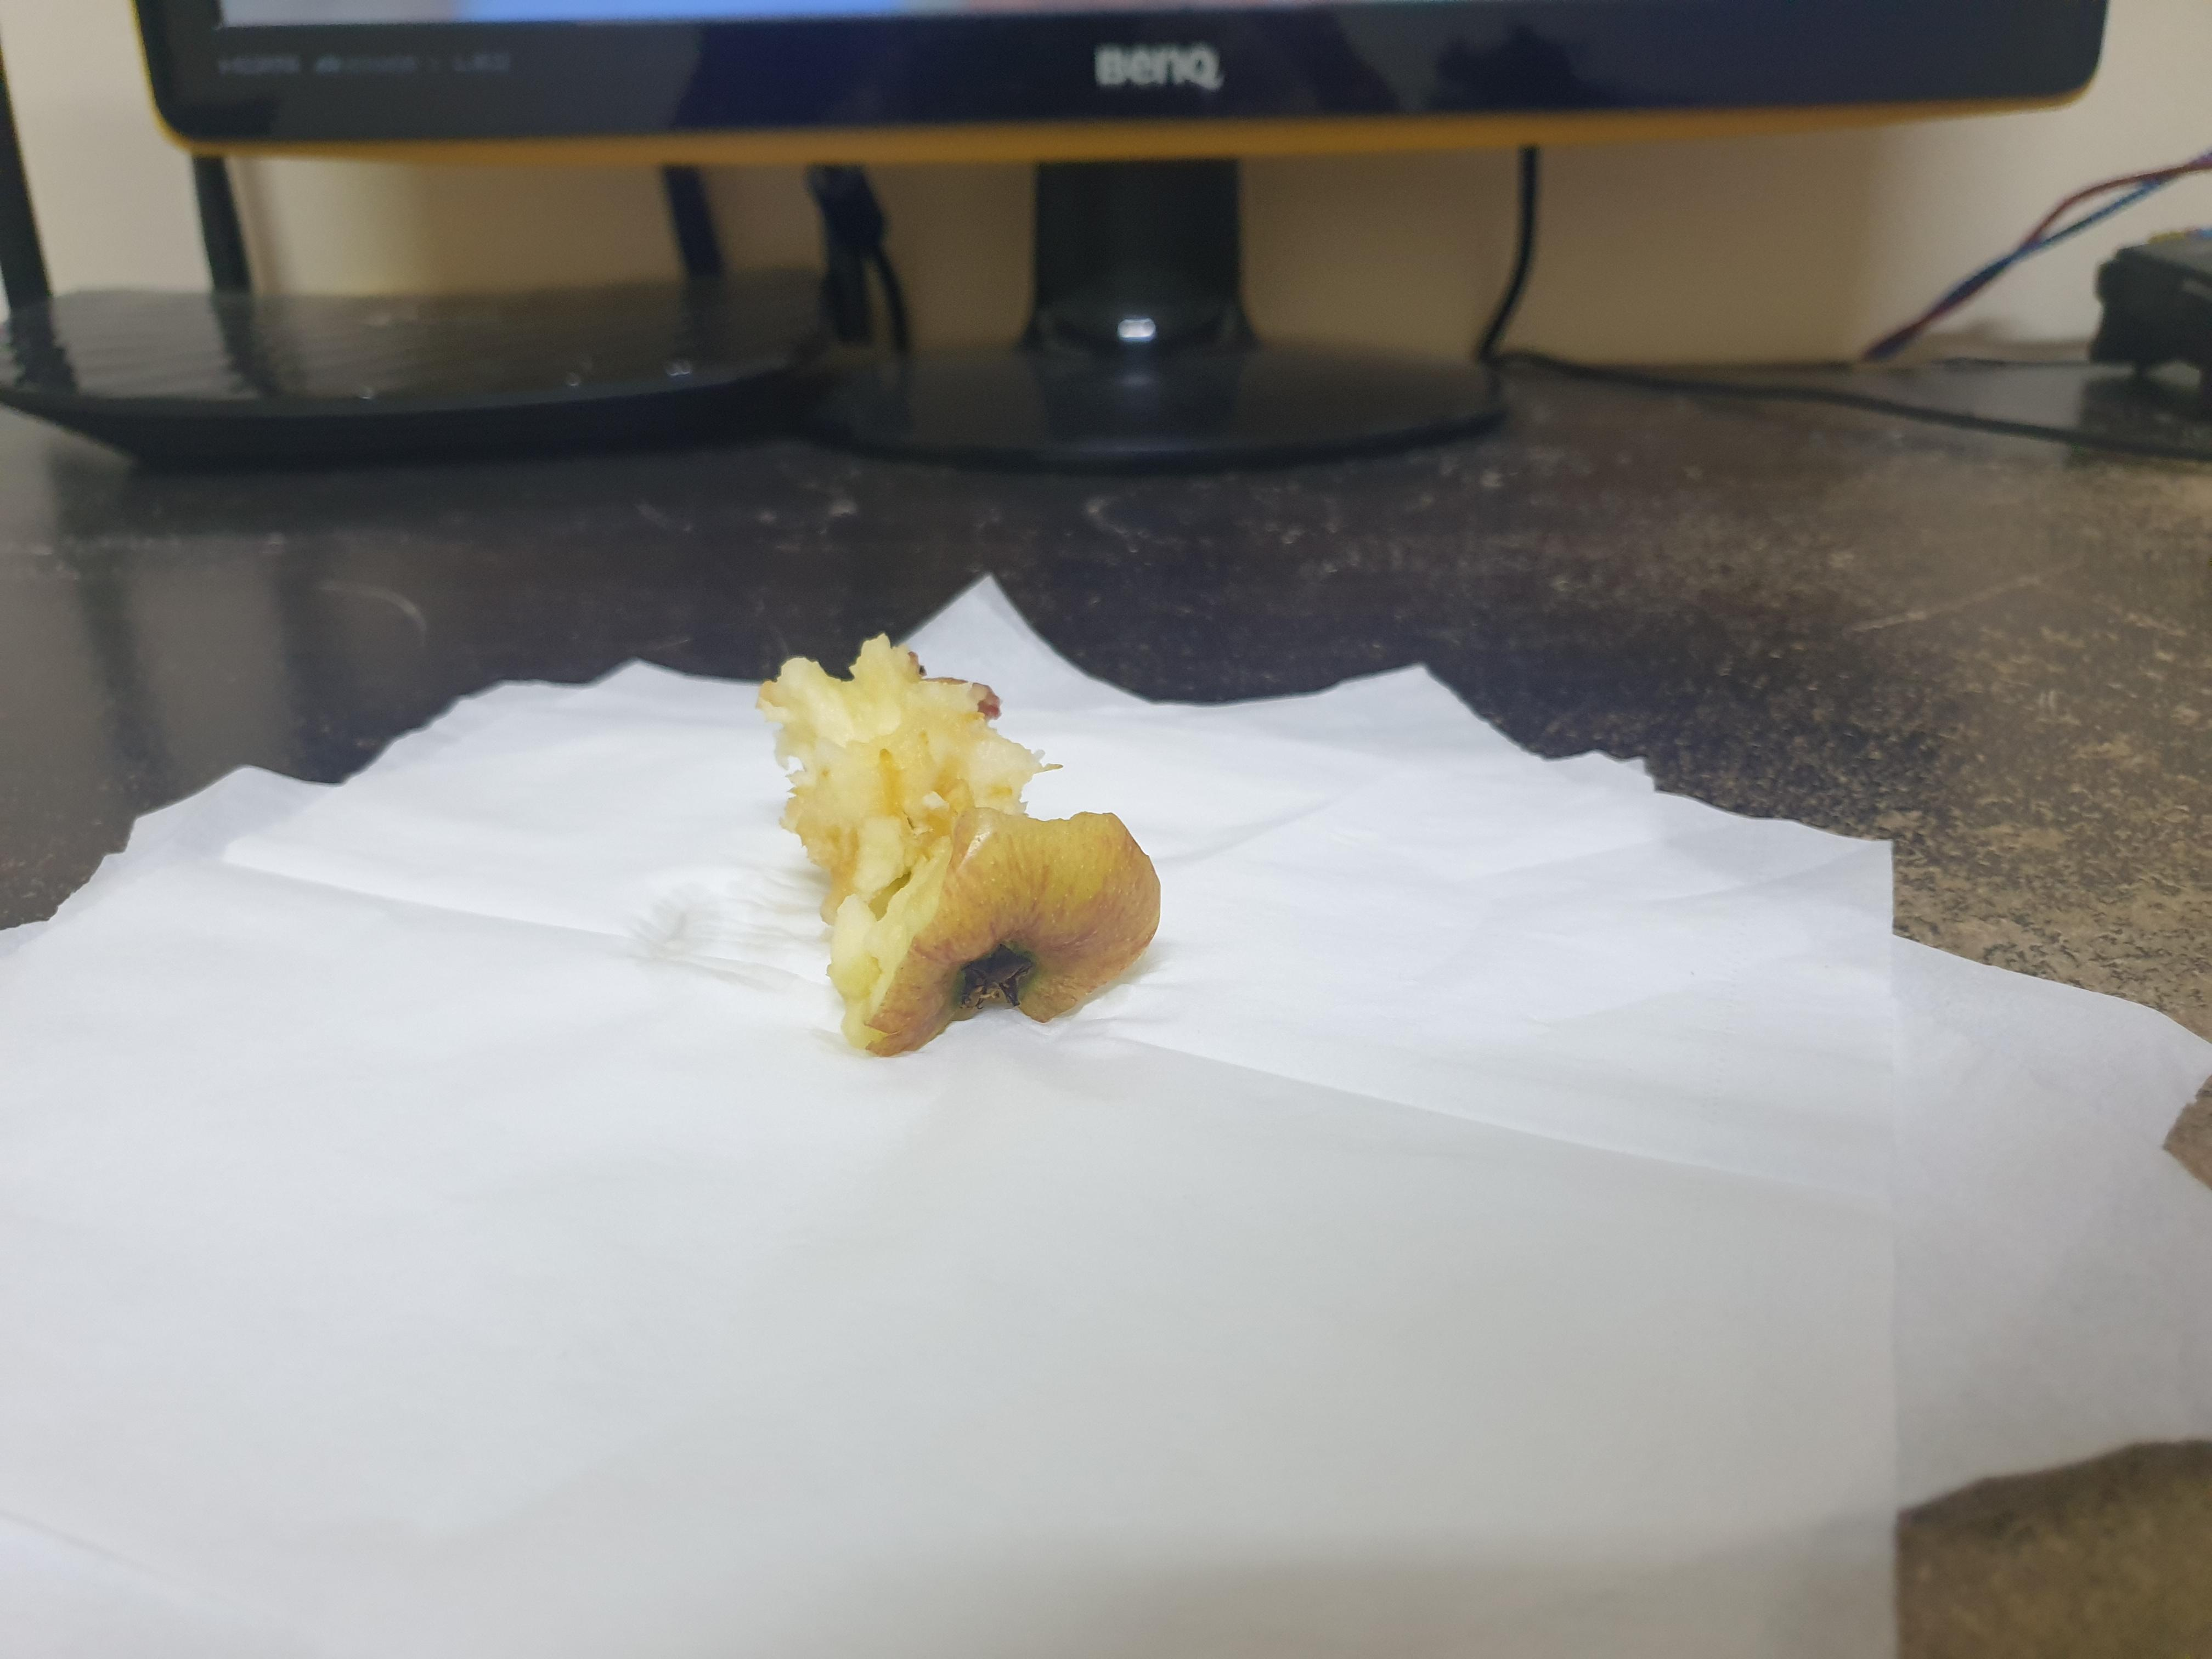Apple: (738, 624, 1183, 1072)
